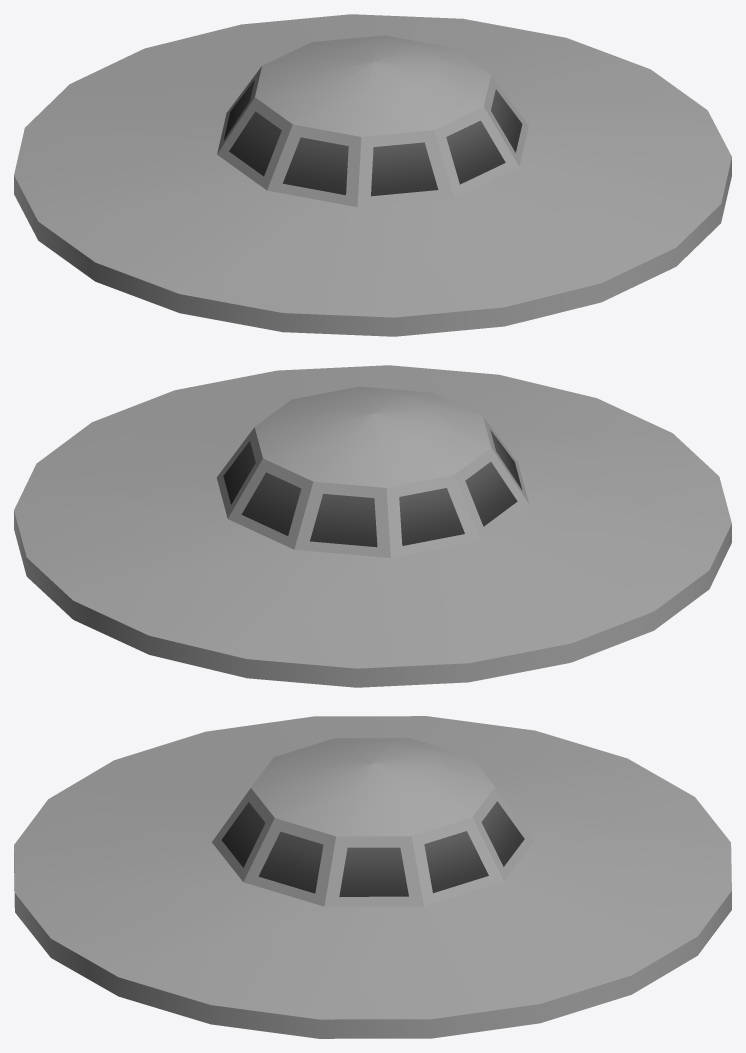
Rendered from UFO.fbx.
The picture shows the model from 3 angles, top to bottom: view 1: azimuth 30°, elevation 25°; view 2: azimuth 150°, elevation 25°; view 3: azimuth 270°, elevation 25°; orthographic projection.
Parts seen in each view (by area): view 1: UFO; view 2: UFO; view 3: UFO.
Part boxes in pixels (box(x1,y1,x2,y2)): UFO: box(14, 14, 731, 336); UFO: box(14, 365, 731, 687); UFO: box(14, 716, 731, 1038).
Size of the model in its own units: 821 by 239 by 821.
